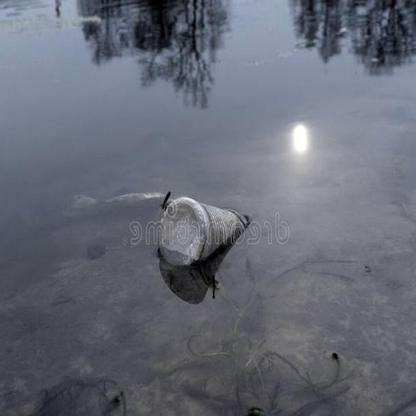plastic bottle: (157, 197, 252, 266)
